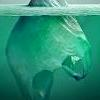Trash: (4, 1, 93, 99)
